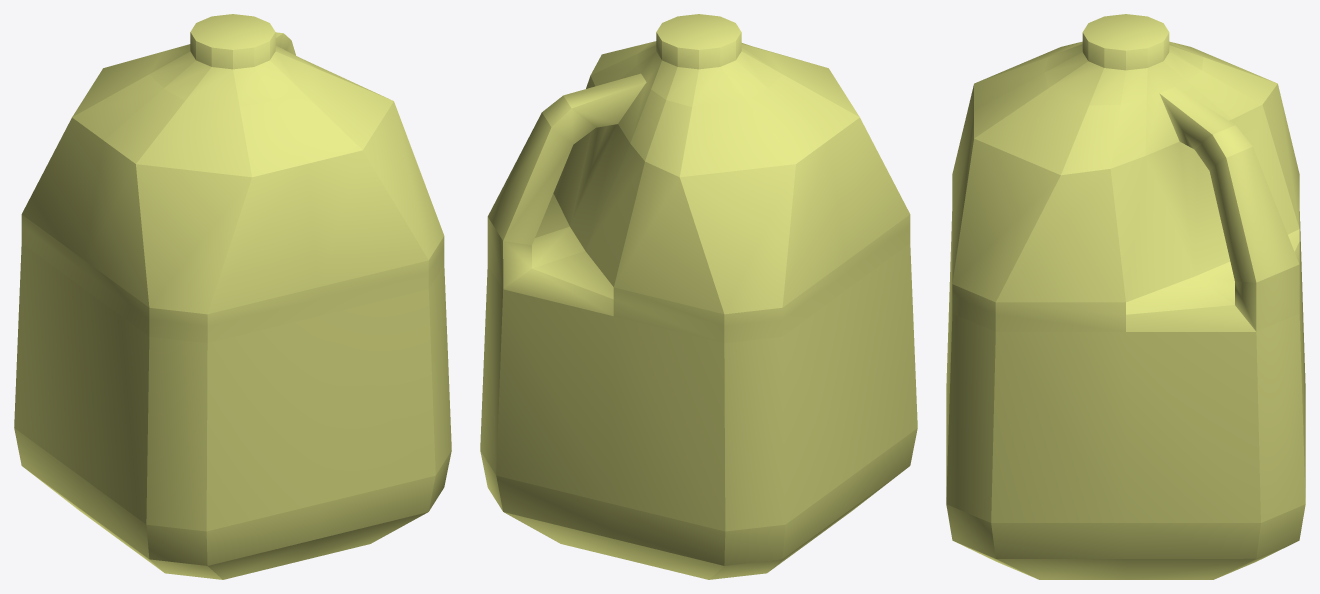
File: p_Milk_Gallon.fbx
The picture shows the model from 3 angles, left to right: view 1: azimuth 30°, elevation 25°; view 2: azimuth 150°, elevation 25°; view 3: azimuth 270°, elevation 25°; orthographic projection.
Parts seen in each view (by area): view 1: p_Milk_Gallon; view 2: p_Milk_Gallon; view 3: p_Milk_Gallon.
Part boxes in pixels (<box>): p_Milk_Gallon: <box>14,14,451,579</box>; p_Milk_Gallon: <box>480,14,917,579</box>; p_Milk_Gallon: <box>946,14,1305,579</box>.
Size of the model in its own units: 12.43 by 18.79 by 12.43.
